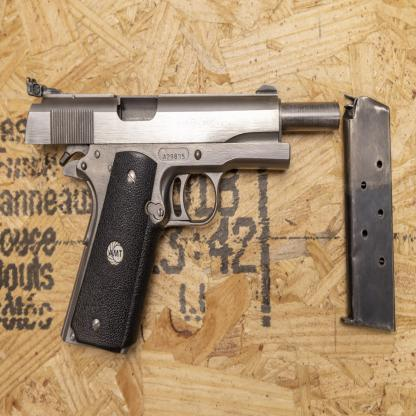handgun: (26, 71, 339, 352)
